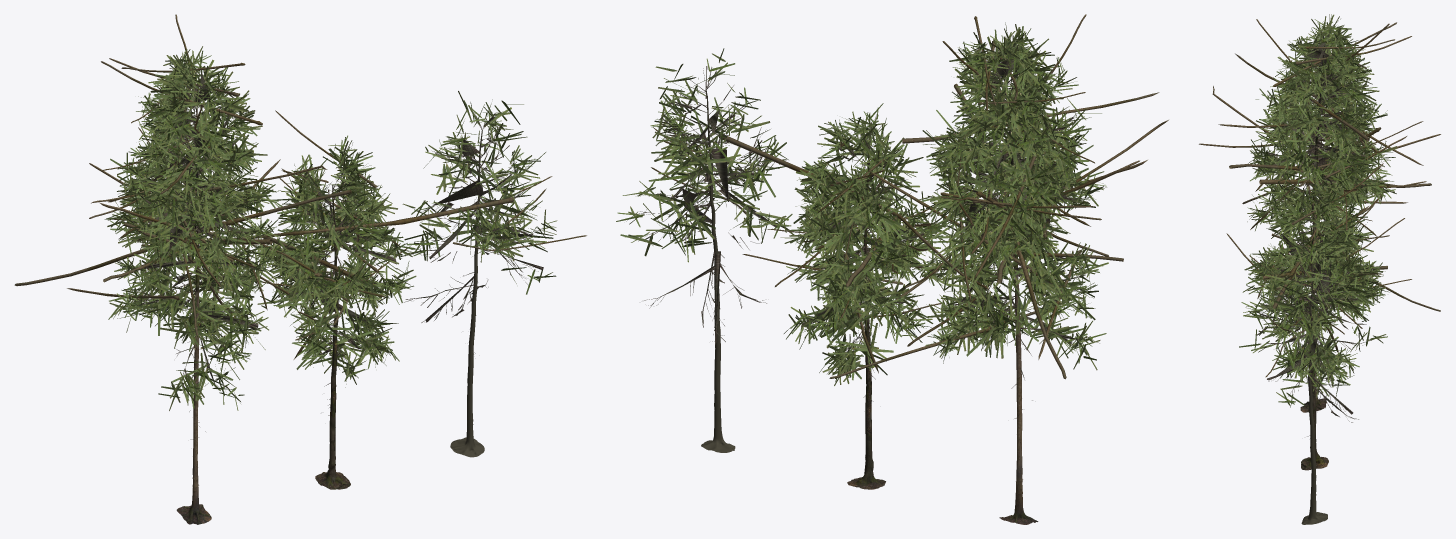
The picture shows the model from 3 angles, left to right: view 1: azimuth 30°, elevation 25°; view 2: azimuth 150°, elevation 25°; view 3: azimuth 270°, elevation 25°; orthographic projection. The views are drawn at different scales.
Visible parts, largest first — view 1: fir_tree_01_a_LOD0.003, fir_tree_01_a_LOD0.001, fir_tree_01_a_LOD0, fir_tree_01_a_LOD0.002, fir_tree_01_a_LOD0.005; view 2: fir_tree_01_a_LOD0.003, fir_tree_01_a_LOD0.001, fir_tree_01_a_LOD0, fir_tree_01_a_LOD0.002, fir_tree_01_a_LOD0.005; view 3: fir_tree_01_a_LOD0.003, fir_tree_01_a_LOD0.001, fir_tree_01_a_LOD0, fir_tree_01_a_LOD0.005, fir_tree_01_a_LOD0.002.
Boxes of the visible parts, x1,y1,x2,y2 form: fir_tree_01_a_LOD0.003: [14, 14, 586, 410]; fir_tree_01_a_LOD0.001: [131, 67, 543, 392]; fir_tree_01_a_LOD0: [450, 131, 484, 457]; fir_tree_01_a_LOD0.002: [176, 94, 211, 524]; fir_tree_01_a_LOD0.005: [315, 185, 350, 489]; fir_tree_01_a_LOD0.003: [616, 14, 1168, 385]; fir_tree_01_a_LOD0.001: [638, 46, 1090, 363]; fir_tree_01_a_LOD0: [701, 95, 735, 452]; fir_tree_01_a_LOD0.002: [999, 66, 1038, 524]; fir_tree_01_a_LOD0.005: [847, 157, 885, 489]; fir_tree_01_a_LOD0.003: [1199, 14, 1440, 407]; fir_tree_01_a_LOD0.001: [1256, 32, 1375, 422]; fir_tree_01_a_LOD0: [1301, 256, 1327, 524]; fir_tree_01_a_LOD0.005: [1301, 213, 1328, 470]; fir_tree_01_a_LOD0.002: [1300, 55, 1326, 412].
Size of the model in its own units: 20.79 by 19.46 by 10.81.
6 materials, 6 textured.
